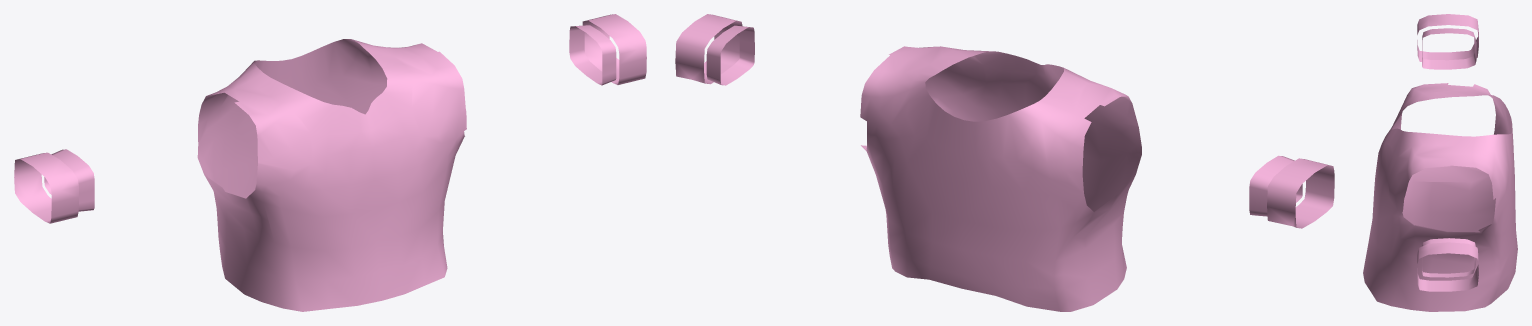
File: Camisa.fbx
The picture shows the model from 3 angles, left to right: view 1: azimuth 30°, elevation 25°; view 2: azimuth 150°, elevation 25°; view 3: azimuth 270°, elevation 25°; orthographic projection. The views are drawn at different scales.
Parts seen in each view (by area): view 1: camisa; view 2: camisa; view 3: camisa.
Part boxes in pixels (bbox=[...]): camisa: bbox=[14, 14, 646, 311]; camisa: bbox=[675, 14, 1334, 311]; camisa: bbox=[1363, 14, 1517, 311].
Size of the model in its own units: 577 by 178 by 158.
